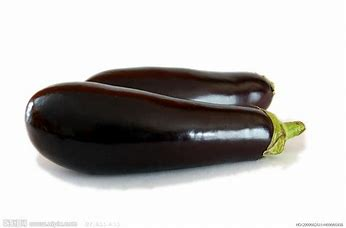fruit_eggplant: (24, 79, 309, 180)
